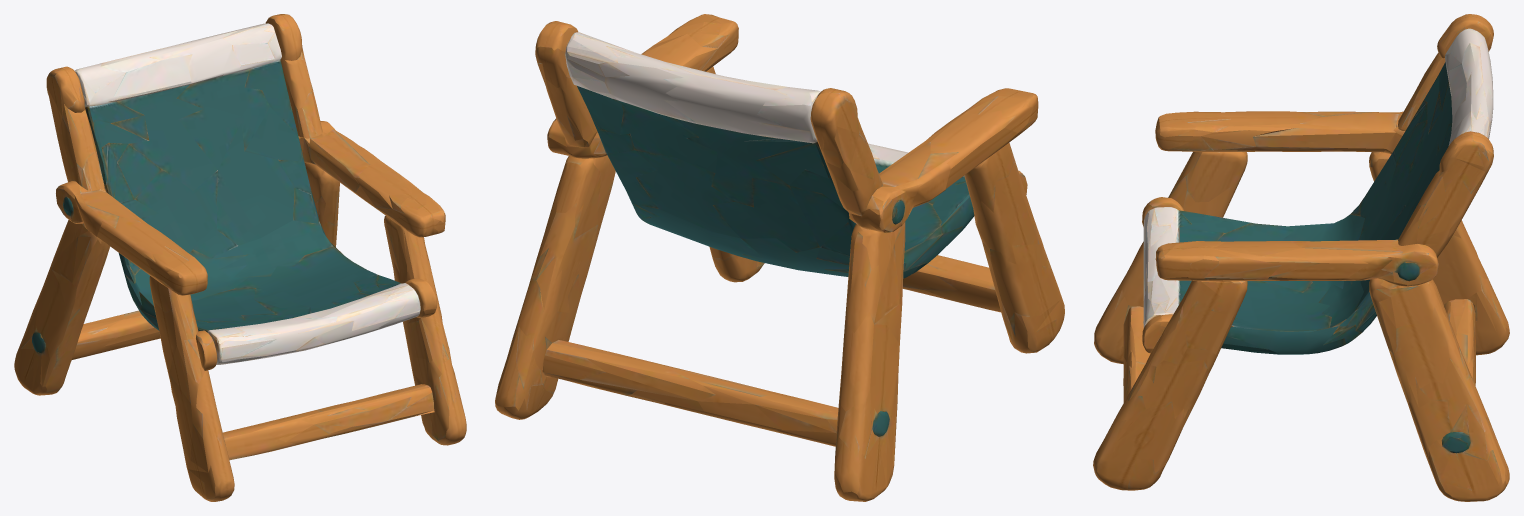
File: campChair.glb
3 renders of one model, left to right at view 1: azimuth 30°, elevation 25°; view 2: azimuth 150°, elevation 25°; view 3: azimuth 270°, elevation 25°, orthographic. The views are drawn at different scales.
Parts seen in each view (by area): view 1: Mesh_0; view 2: Mesh_0; view 3: Mesh_0.
Part boxes in pixels (bbox=[...]): Mesh_0: bbox=[14, 14, 466, 501]; Mesh_0: bbox=[495, 14, 1064, 501]; Mesh_0: bbox=[1093, 14, 1509, 501].
Bounding box in the file's own units: 0.7218 × 0.7423 × 0.8.
Materials: 1 (1 with a texture image).
